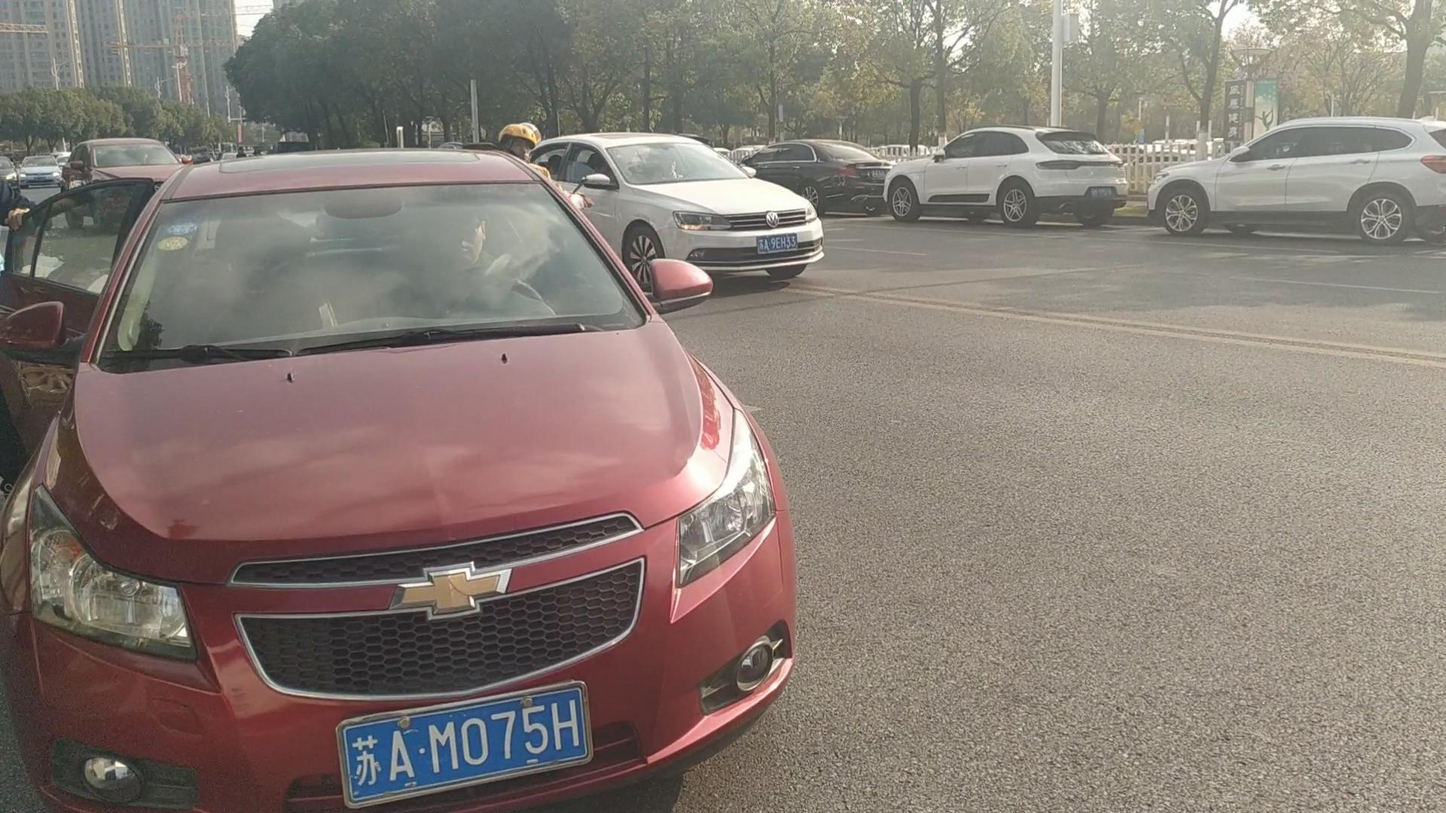car: (0, 142, 798, 811), (528, 132, 825, 291), (0, 172, 166, 455), (1146, 115, 1444, 242), (882, 125, 1128, 227), (734, 140, 893, 215), (62, 135, 182, 191), (17, 160, 65, 196), (498, 122, 541, 157), (1, 154, 27, 192), (275, 133, 312, 153)
